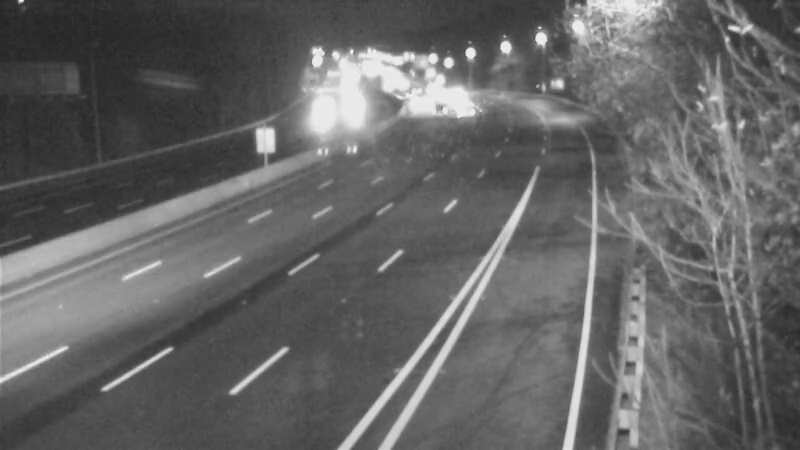vehicle: (439, 75, 489, 125), (394, 77, 444, 127), (438, 87, 488, 137), (408, 85, 458, 135), (297, 88, 347, 138), (325, 83, 375, 133)
